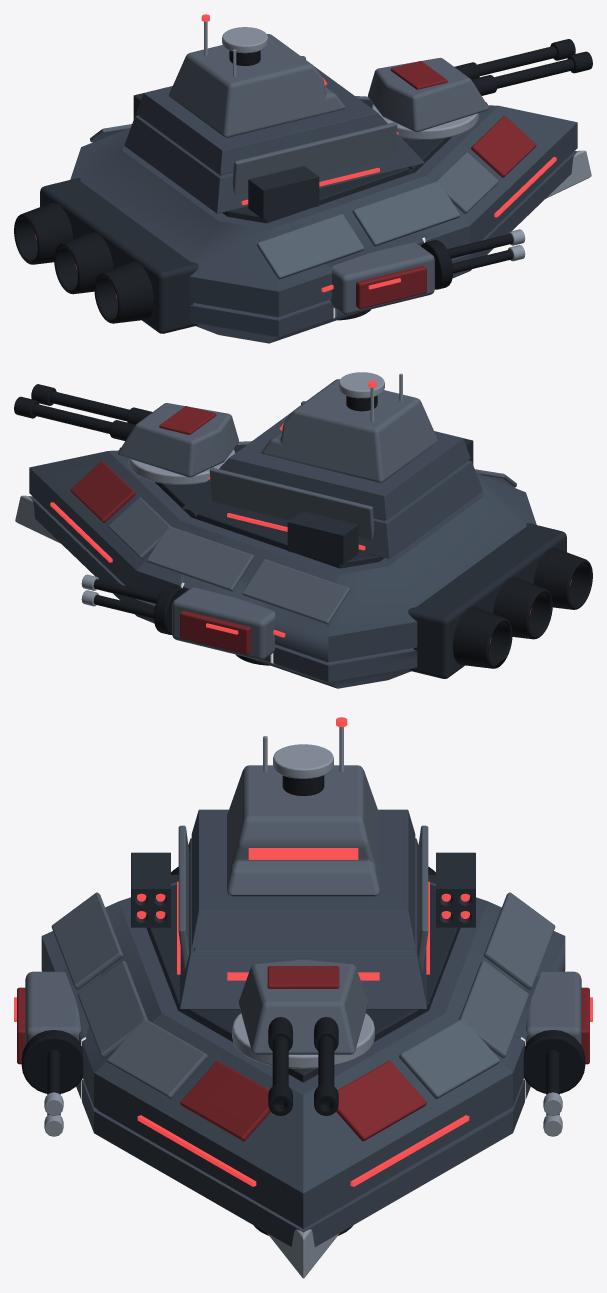
The model's file is colossus.glb.
The picture shows the model from 3 angles, top to bottom: view 1: azimuth 30°, elevation 25°; view 2: azimuth 150°, elevation 25°; view 3: azimuth 270°, elevation 25°; orthographic projection. The views are drawn at different scales.
Parts seen in each view (by area): view 1: Hull, Superstructure; view 2: Hull, Superstructure; view 3: Hull, Superstructure.
Part boxes in pixels (bbox=[...]): Hull: bbox=[14, 96, 591, 343]; Superstructure: bbox=[124, 14, 592, 219]; Hull: bbox=[15, 441, 592, 688]; Superstructure: bbox=[14, 372, 482, 564]; Hull: bbox=[14, 866, 592, 1278]; Superstructure: bbox=[131, 717, 475, 1115].
Bounding box in the file's own units: 8.45 × 4.07 × 6.08.
